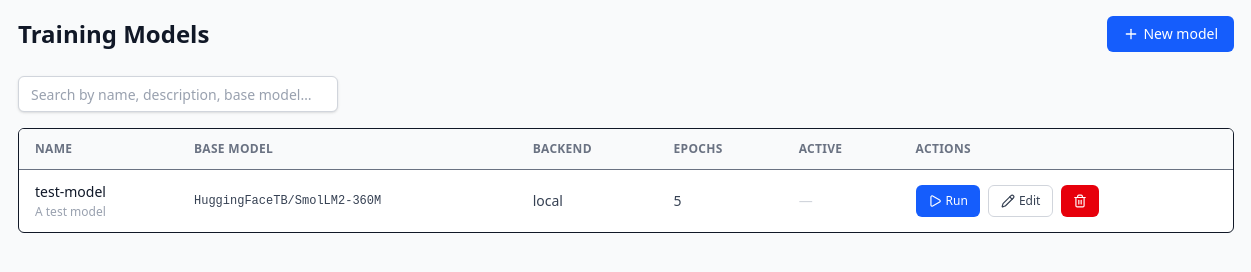
Test: ModelsListPage › hides rows that do not match the search query
The width and height of the screenshot is (1251, 272).
Expected: the text "test-model" is shown, [35, 182, 106, 201]
Type "zzznomatch" into the field labelled "Search by name, description, base model…" at coordinates (178, 94), box [18, 76, 338, 112]
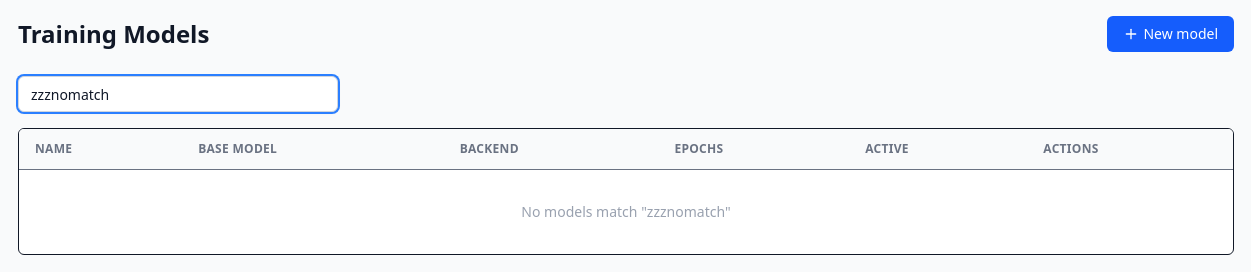
Now the text "test-model" is gone
